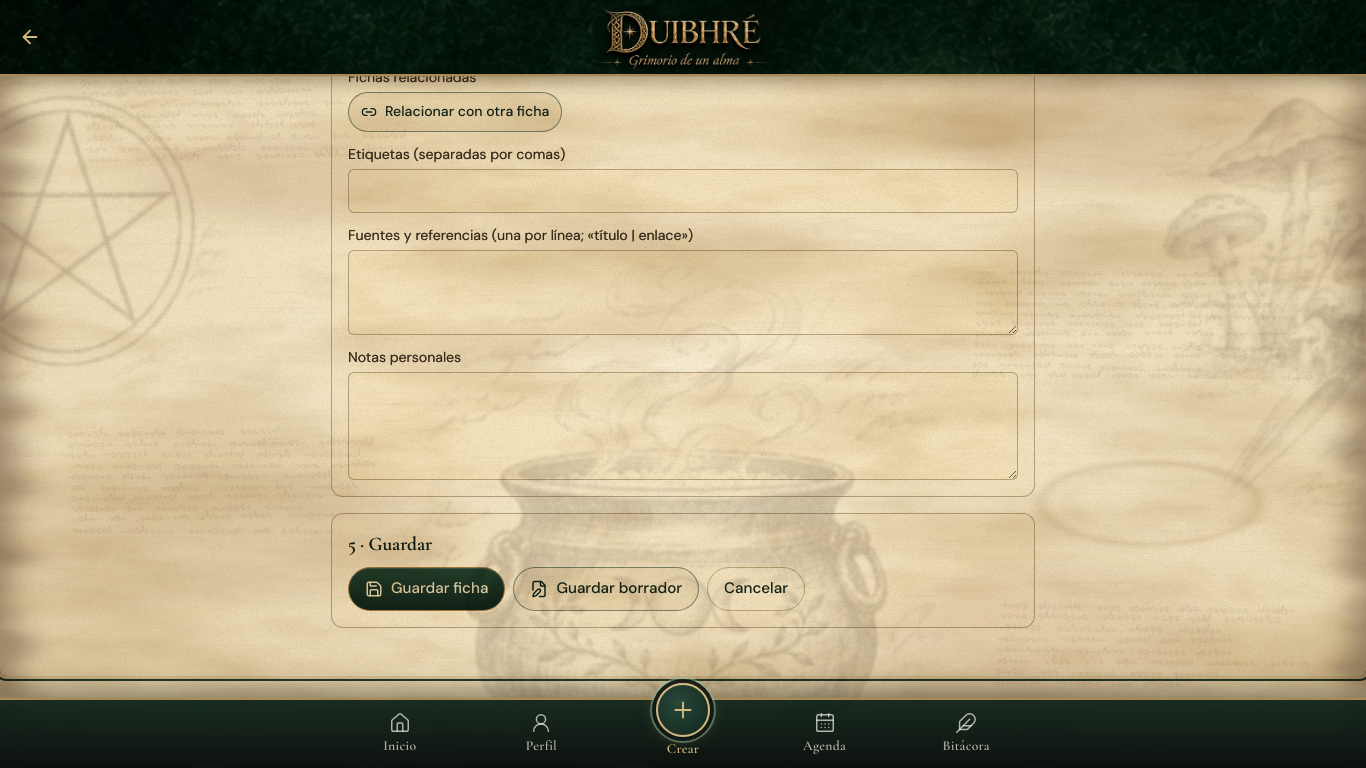
it: formulario de ficha › muestra el error si falta el título y no guarda
(page scrolled)
Click the button "Guardar ficha": (427, 589) [348,567,505,611]
(page scrolled)
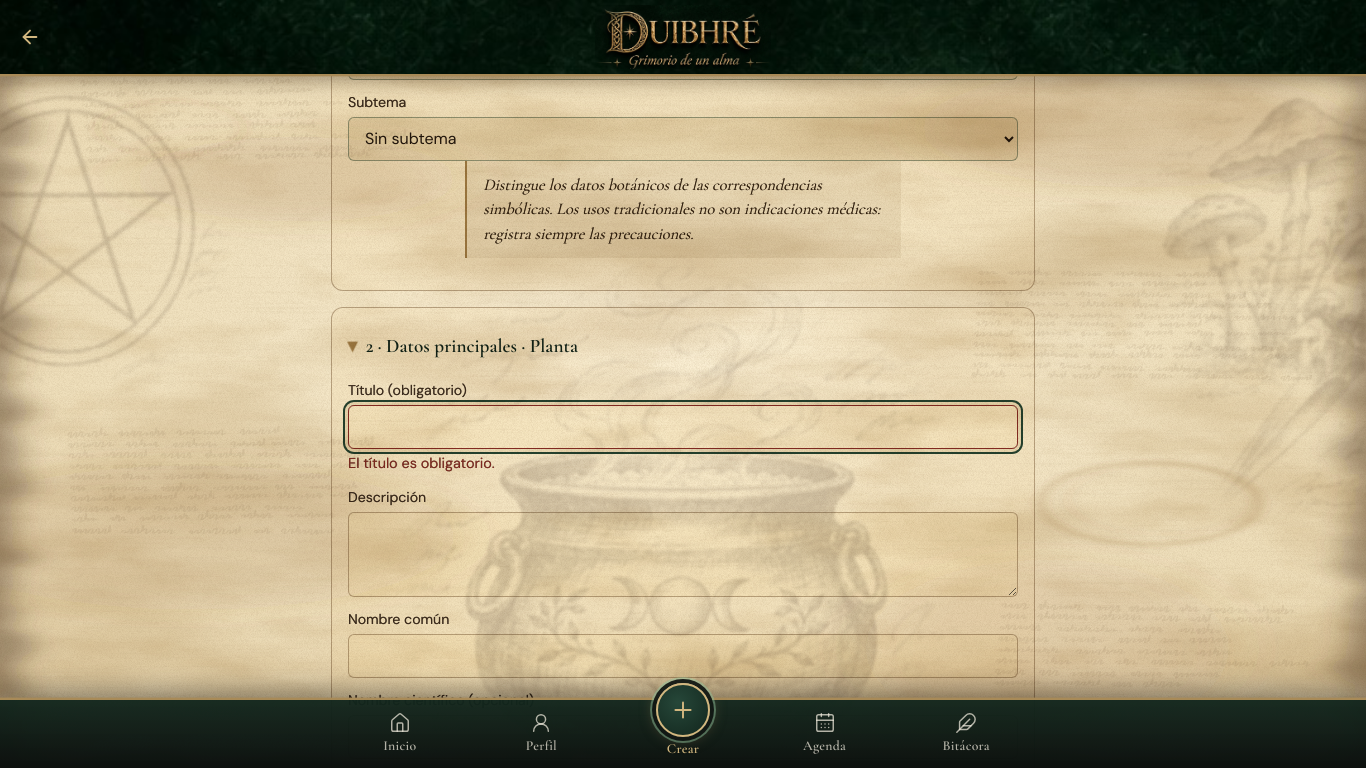
Check: the text "El título es obligatorio." is shown, box [348,454,495,472]
